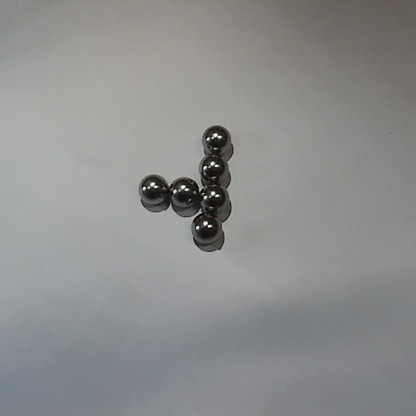ironball: (136, 172, 171, 208), (166, 173, 197, 212), (198, 188, 236, 219), (197, 121, 232, 153), (191, 213, 222, 246), (198, 155, 229, 184)
